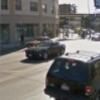cars: (26, 41, 66, 59)
